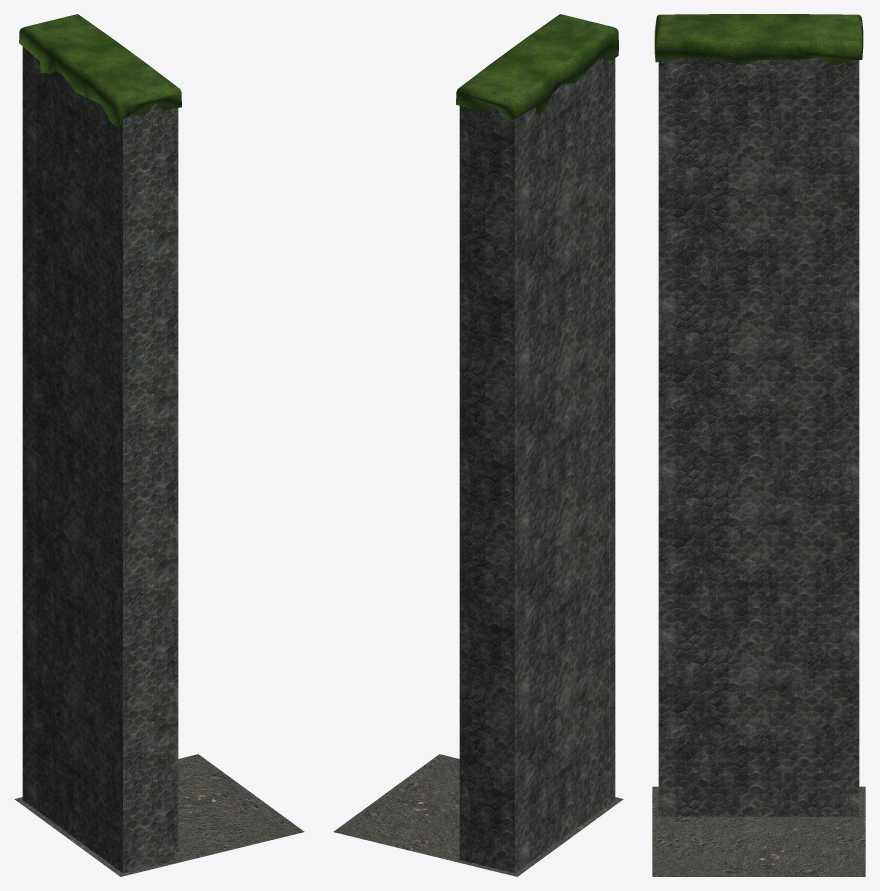
The model's file is predio_06.gltf.
The picture shows the model from 3 angles, left to right: view 1: azimuth 30°, elevation 25°; view 2: azimuth 150°, elevation 25°; view 3: azimuth 270°, elevation 25°; orthographic projection.
Parts seen in each view (by area): view 1: edificio_06_I, chao; view 2: edificio_06_I, chao; view 3: edificio_06_I, chao.
Part boxes in pixels (x1,y1,x2,y2): edificio_06_I: (19,14,181,872); chao: (14,754,304,876); edificio_06_I: (456,14,618,872); chao: (333,754,623,876); edificio_06_I: (654,14,863,816); chao: (652,786,865,876).
Bounding box in the file's own units: 50 × 201 × 50.
Materials: 3 (3 with a texture image).
